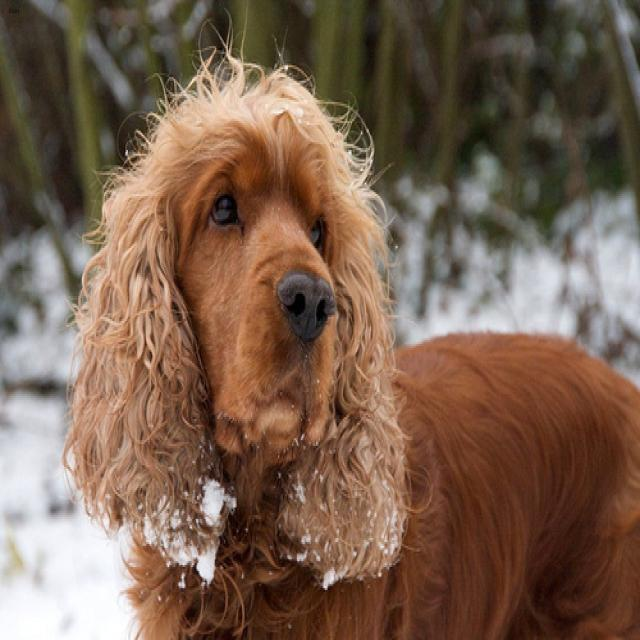dog-english_cocker_spaniel: (51, 2, 637, 636)
